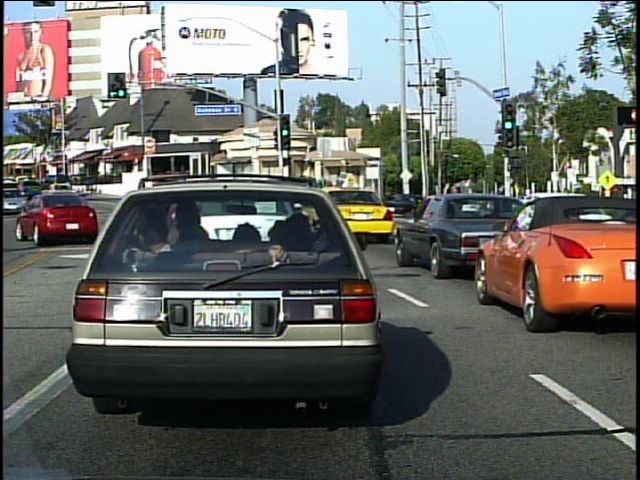person: (451, 183, 473, 229)
